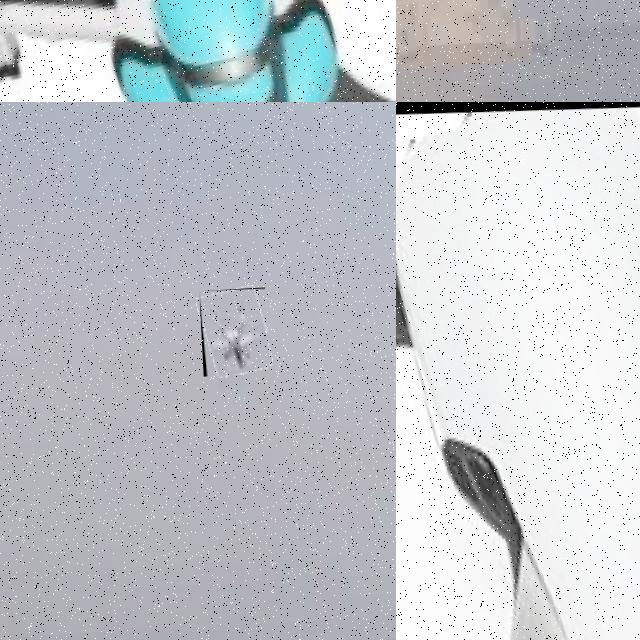drone: (396, 102, 640, 640), (0, 0, 396, 102), (199, 287, 270, 377)
